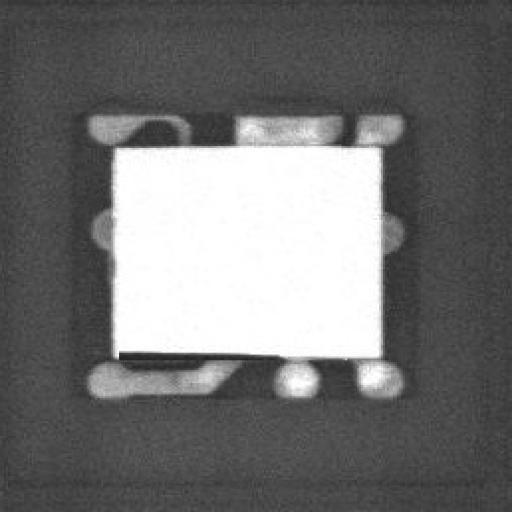DIE_BROKEN: (111, 344, 288, 358)
